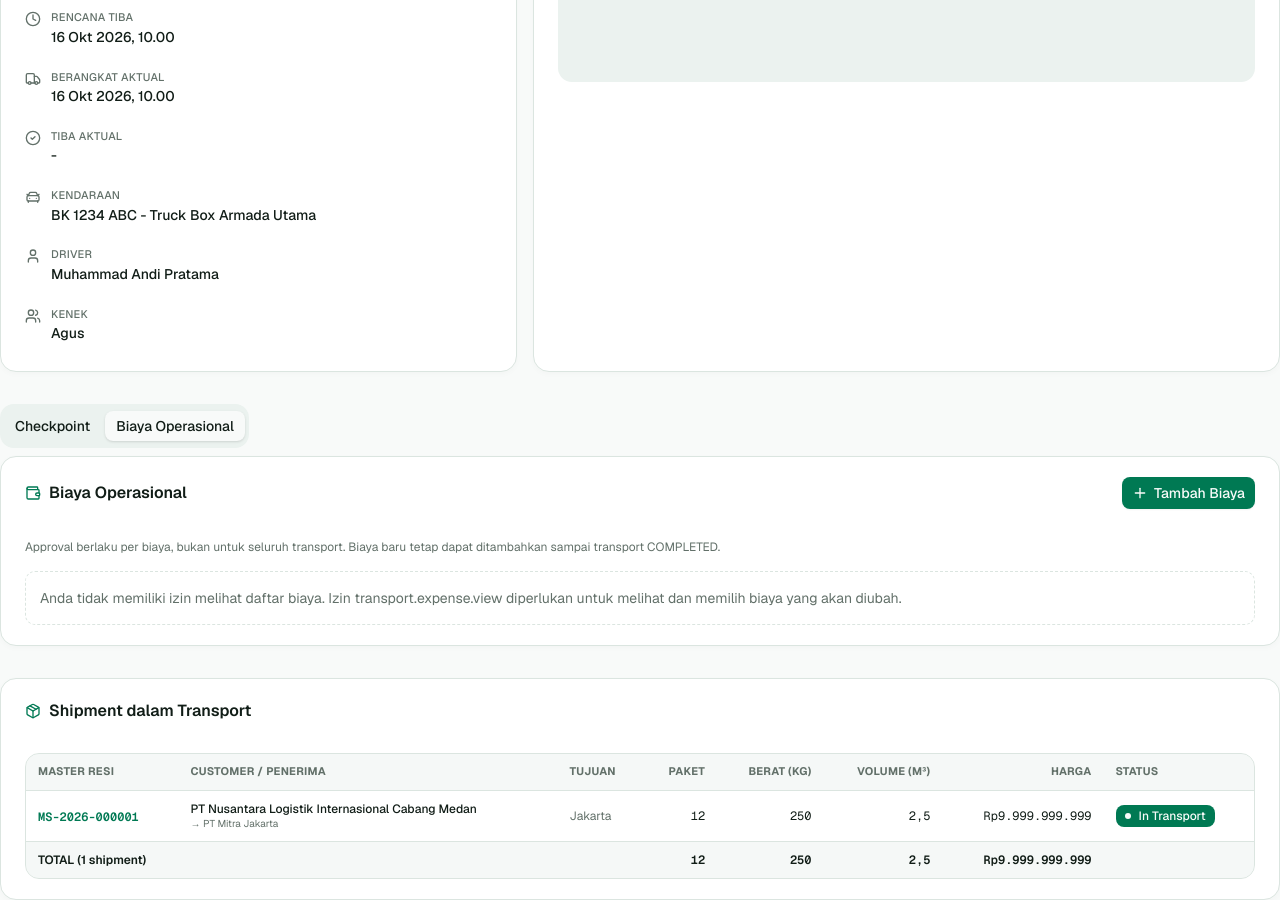
responsive transport finance and bank management › lets expense creators add costs without expense view permission (transport.view)
(page scrolled)
What coordinates should you click on to do the following:
click the button "Tambah Biaya"
I would click on:
 (1188, 493)
Its box is [1122,477,1255,509].
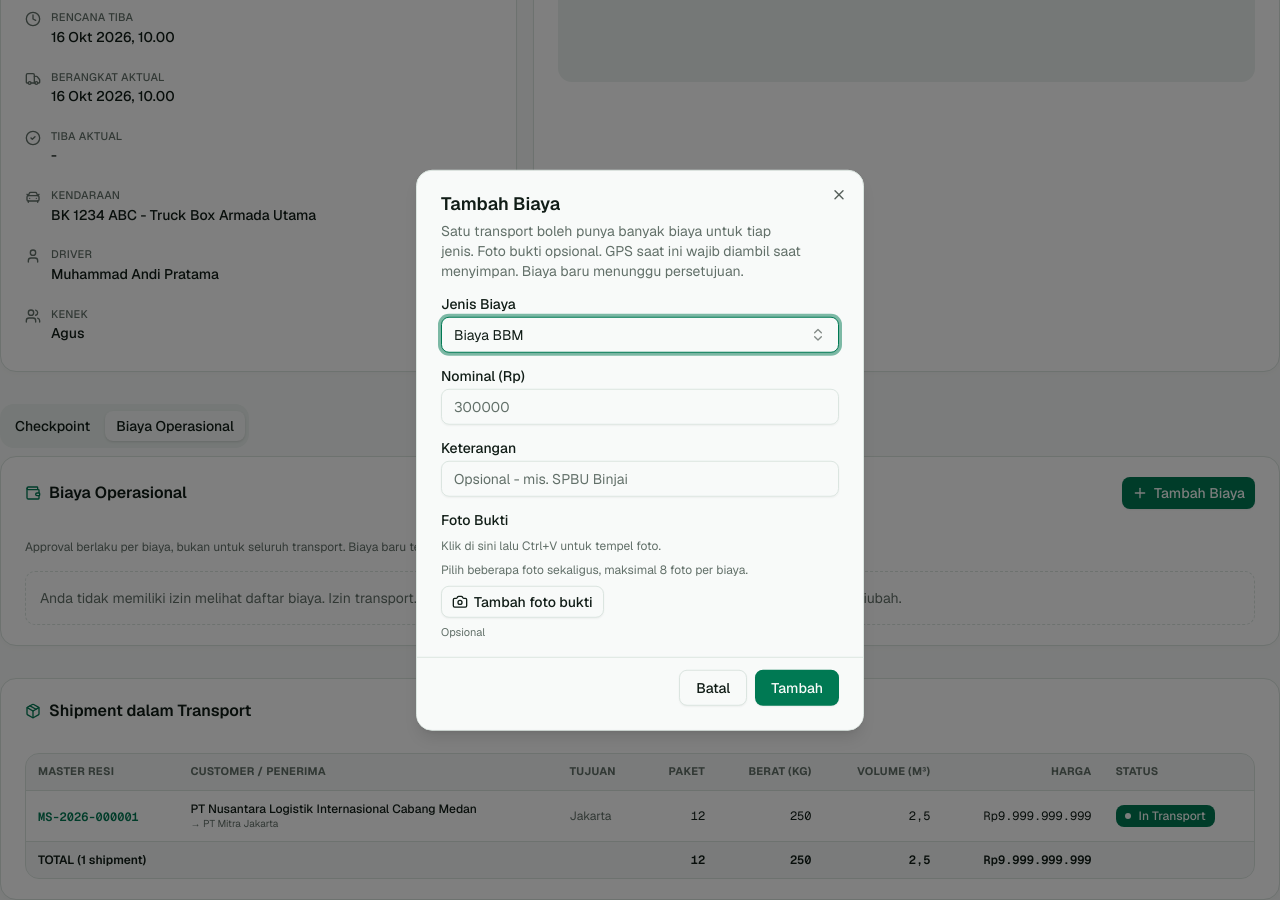
Expected: the dialog "Tambah Biaya" is shown, [416,170,864,730]
